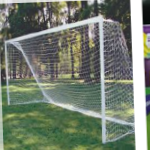goals: (2, 12, 134, 144)
